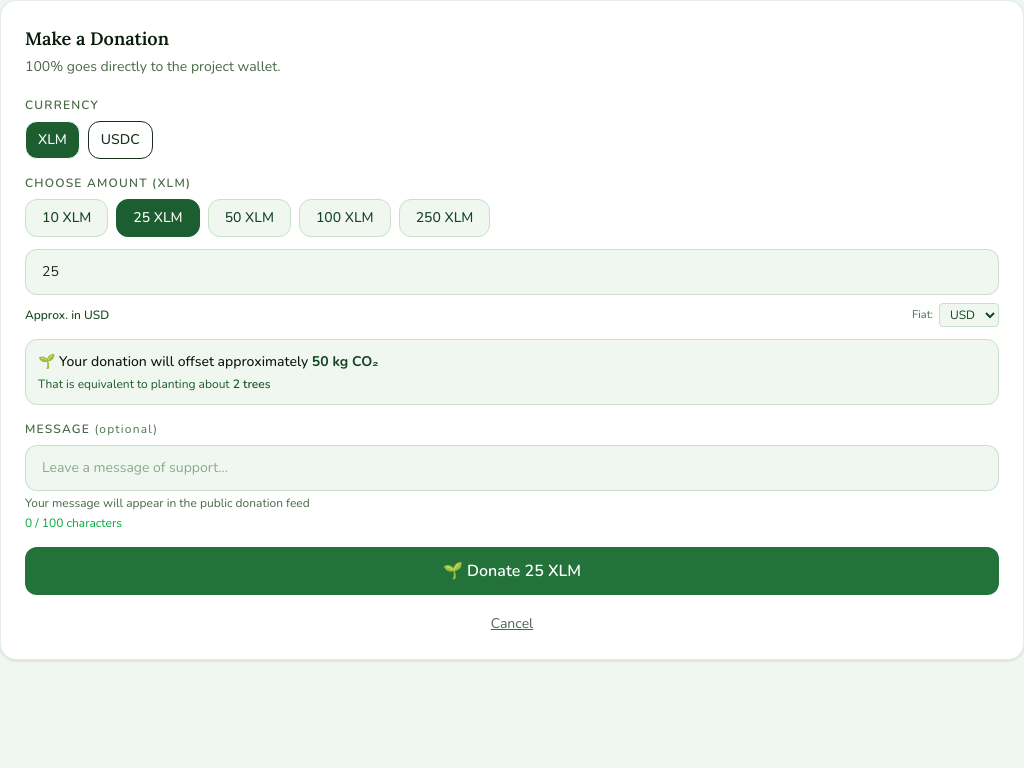
Test: DonateForm Loading & Signing State › shows 'Transaction confirmed!' success state with a link to Stellar Expert
Click the button "🌱 Donate 25 XLM".
click(512, 571)  # box x1=25 y1=547 x2=999 y2=595
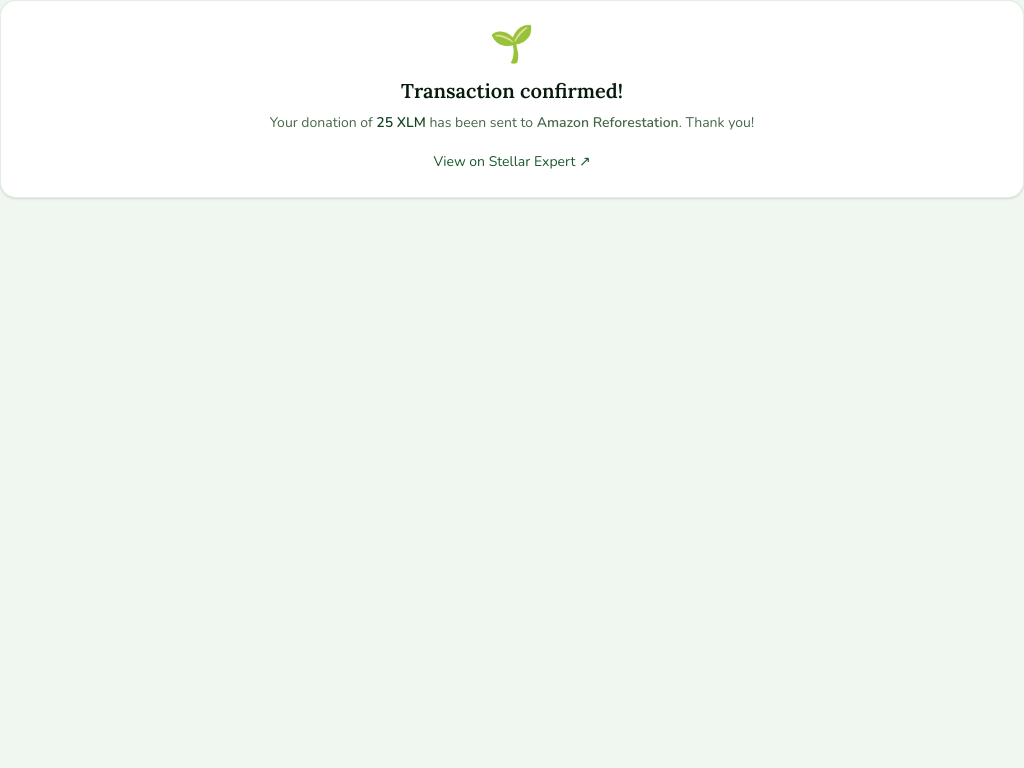
Expected: the heading "Transaction confirmed!" is shown, x1=401 y1=78 x2=623 y2=103
Expected: the link "View on Stellar Expert ↗" is shown, x1=433 y1=152 x2=591 y2=172
